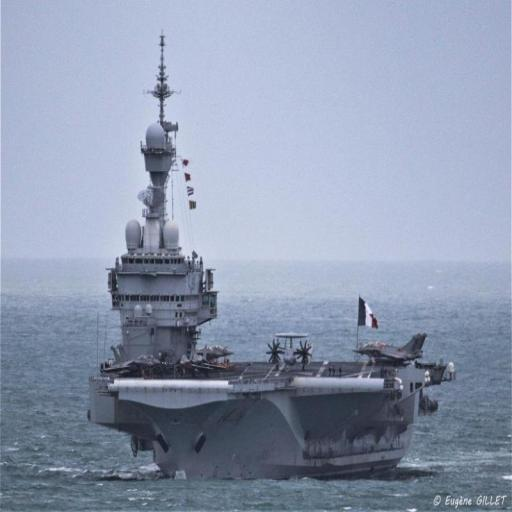Portanaves: (86, 20, 462, 482)
